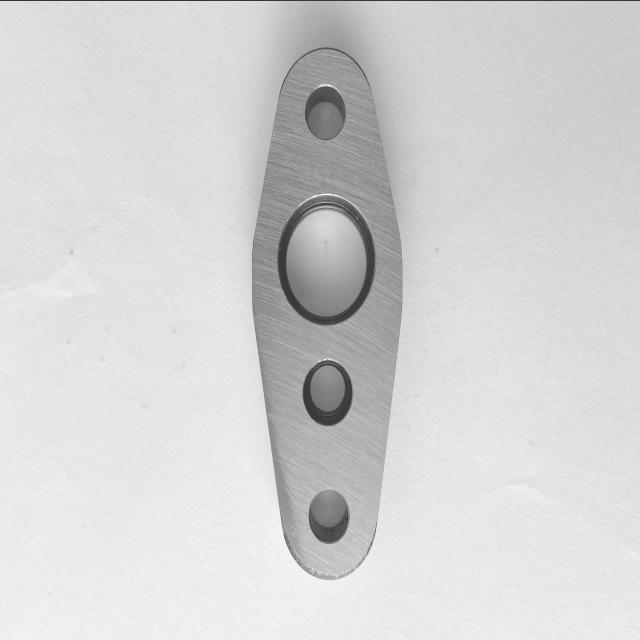chap: (290, 527, 298, 541)
lines: (317, 170, 329, 188)
